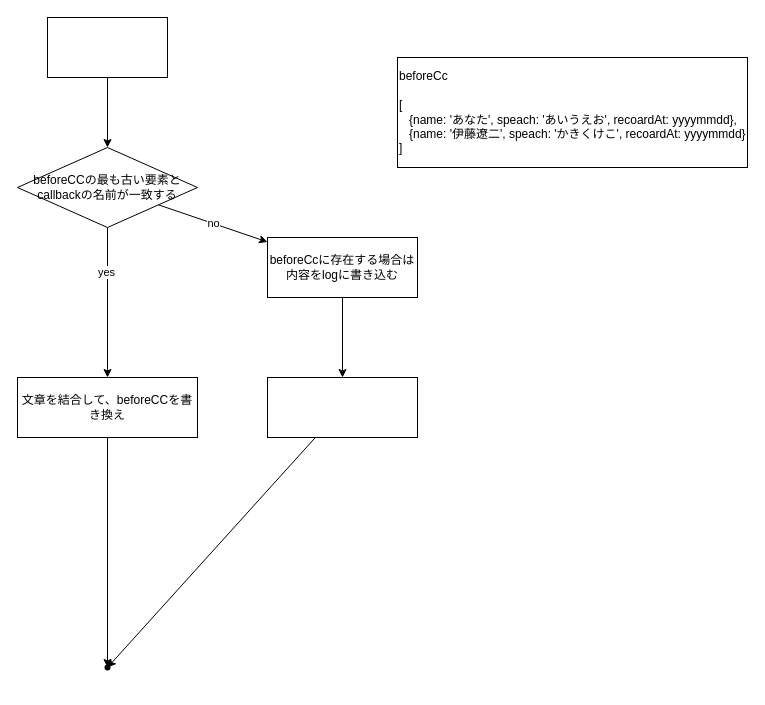
Image size: 765x705. Some labels were removed from this diagram. Here are the shapes that lost their labels. From the top down, the centre of each, then its label:
[107,47]: 字幕callback
[342,407]: beforeCcにcallbackの内容を書き込む
